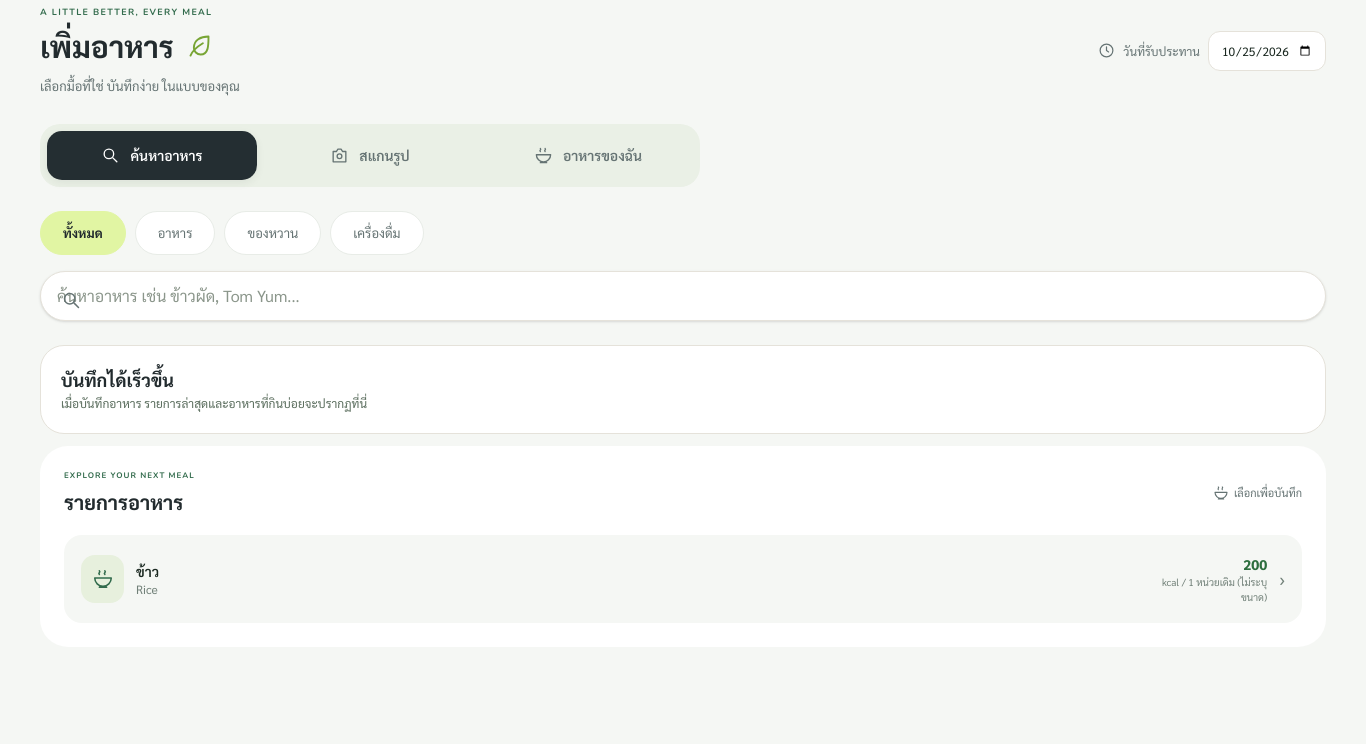
FoodLogger Gemini consent › validates serving limits and shows log-save errors
The image size is (1366, 744).
Click the button "ข้าว Rice 200 kcal / 1 หน่วยเดิม (ไม่ระบุขนาด) ›".
click(102, 579)  # box [64,535,1302,623]
(page scrolled)
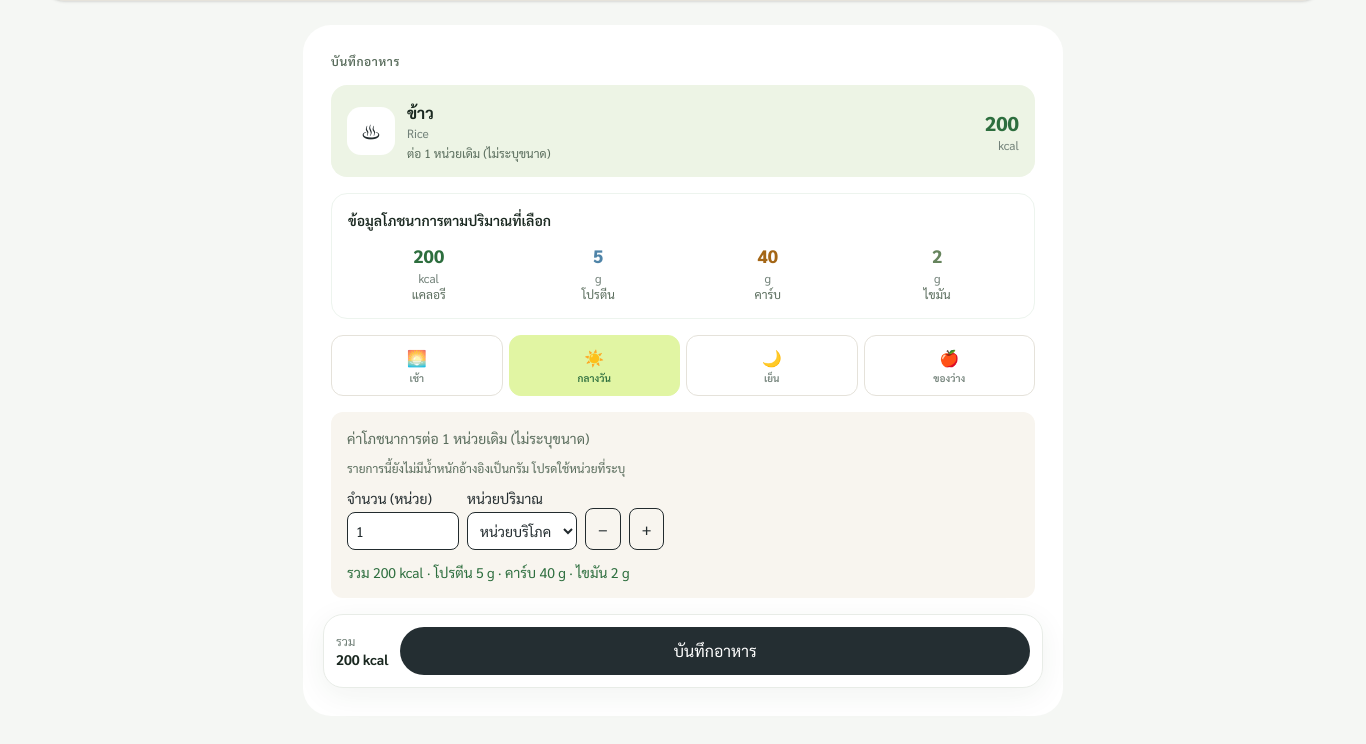
Replace the text in the number field labelled "จำนวน (หน่วย)" with "101" at (403, 530), box [347,512,459,550]
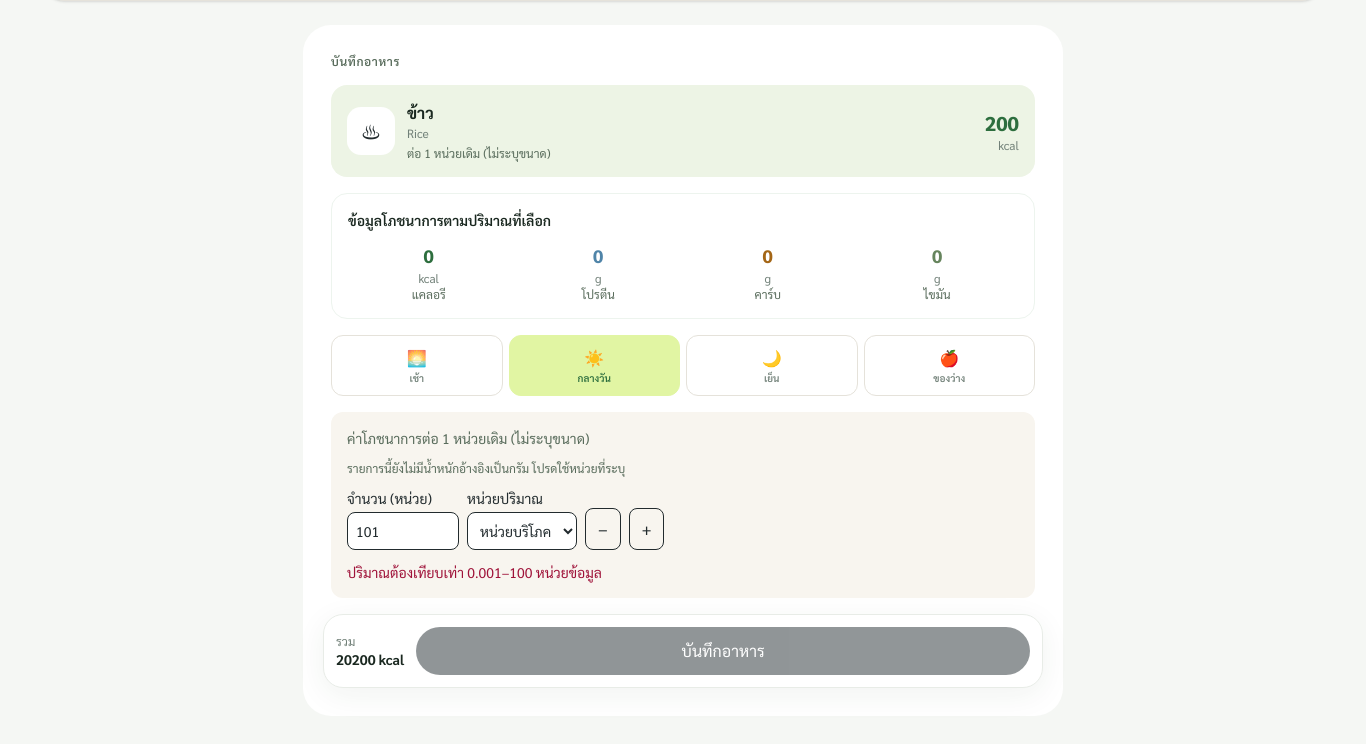
Now the button "บันทึกอาหาร" is disabled, box [416,626,1030,674]
Replace the text in the number field labelled "จำนวน (หน่วย)" with "1" at (403, 530), box [347,512,459,550]
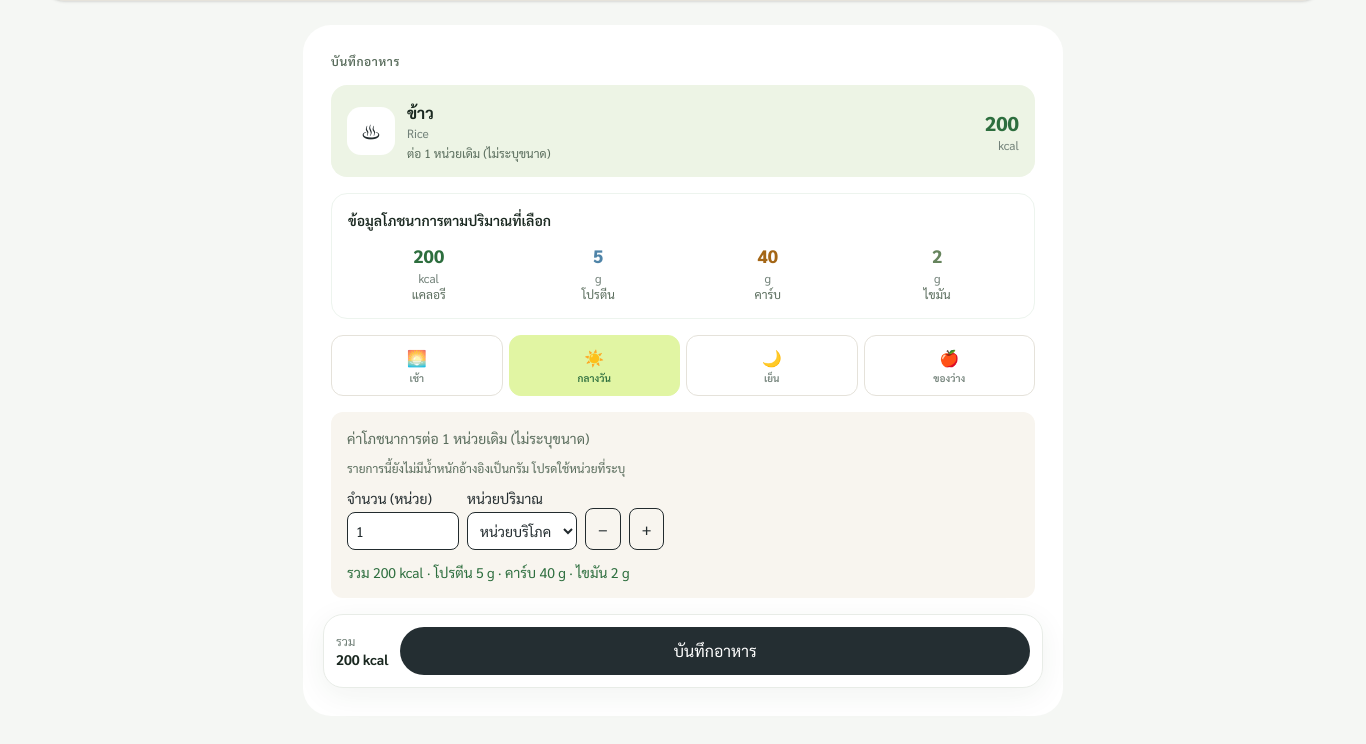
Click the button "บันทึกอาหาร".
click(715, 650)  # box [400,626,1030,674]
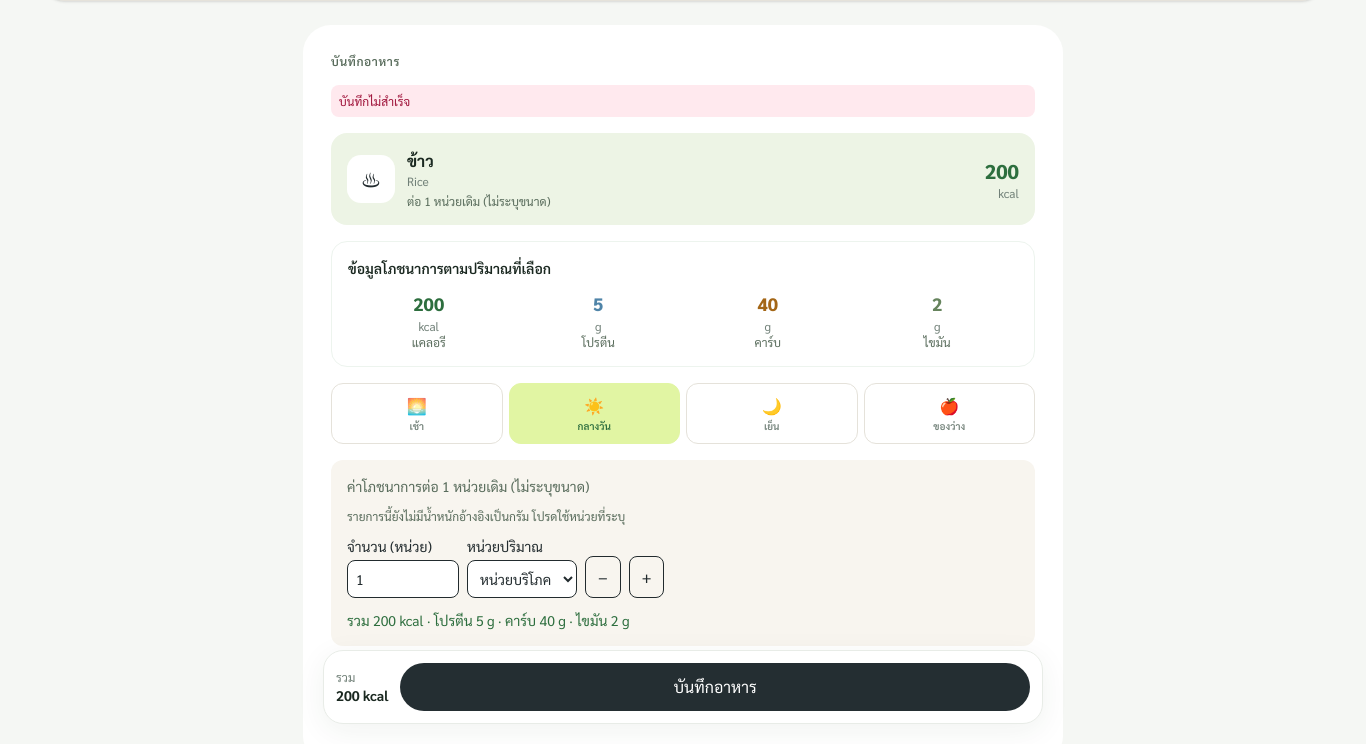
Now the message reads "บันทึกไม่สำเร็จ", box [339,92,410,108]
